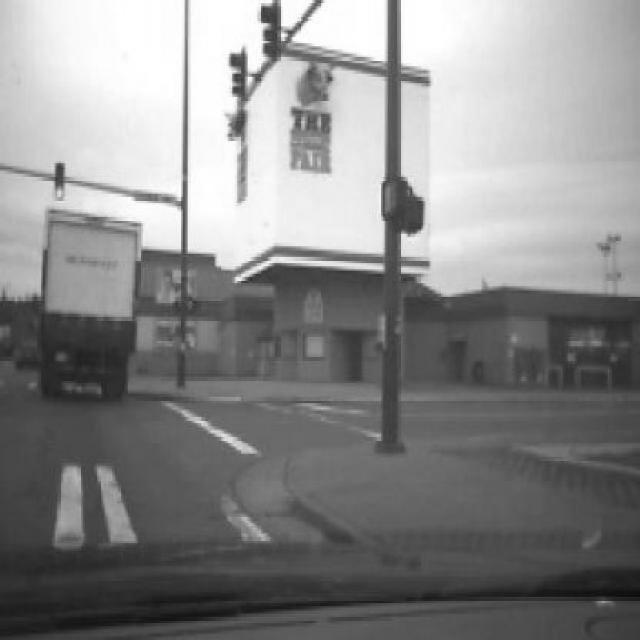Box Truck: (39, 213, 142, 402)
